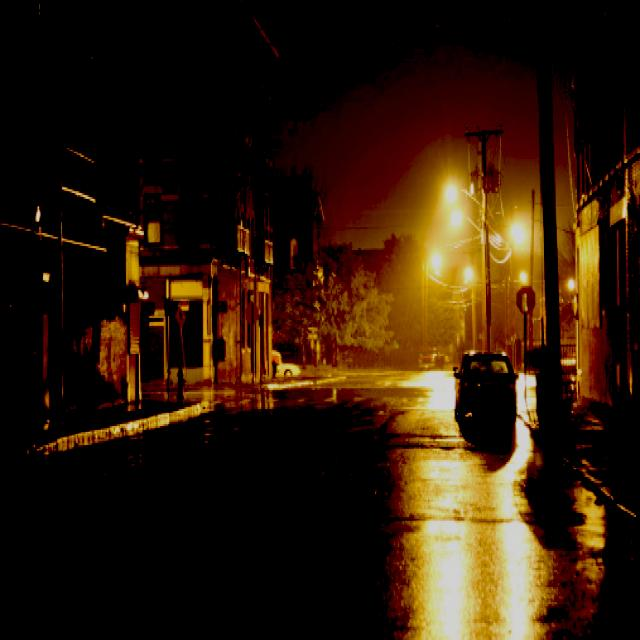Car: (448, 348, 520, 429)
